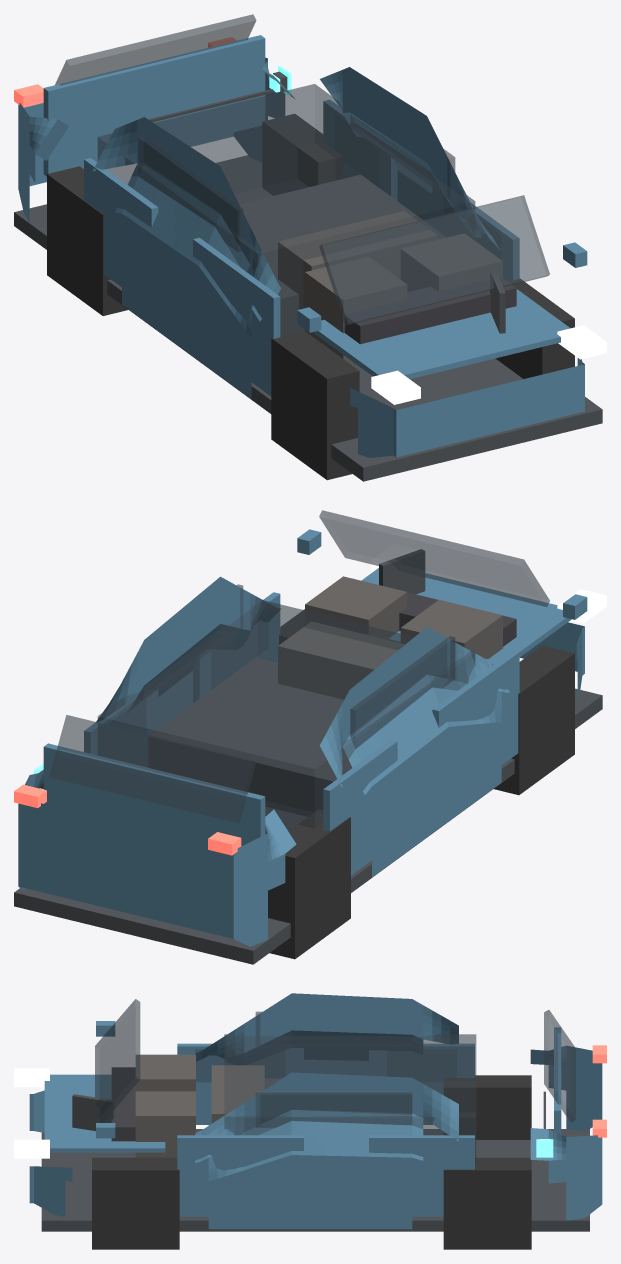
Rendered from fallback_lod.f87adc09b8.glb.
The picture shows the model from 3 angles, top to bottom: view 1: azimuth 30°, elevation 25°; view 2: azimuth 150°, elevation 25°; view 3: azimuth 270°, elevation 25°; orthographic projection. The views are drawn at different scales.
Visible parts, largest first — view 1: body_mesh, cab_mesh, windshield, liftgate_mesh, trim_mesh, tire_fr, frunk_mesh, wheel_well_mesh, tire_rr, seat_rear, dash, seat_r (+13 smaller); view 2: body_mesh, cab_mesh, wheel_well_mesh, liftgate_mesh, rear_glass, windshield, tire_rr, trim_mesh, tire_fr, seat_rear, frunk_mesh, window_fixed_r (+12 smaller); view 3: body_mesh, cab_mesh, trim_mesh, tire_fl, tire_rl, window_fixed_l, tire_rr, door_fl_mesh, frunk_mesh, door_rl_mesh, windshield, door_rr_mesh (+12 smaller).
Part boxes in pixels (x1,y1,x2,y2): body_mesh: (18,57,584,457); cab_mesh: (97,84,475,335); windshield: (319,195,549,325); liftgate_mesh: (43,35,265,176); trim_mesh: (14,155,602,481); tire_fr: (271,330,359,480); frunk_mesh: (313,289,570,379); wheel_well_mesh: (239,174,445,335); tire_rr: (47,166,128,315); seat_rear: (278,211,437,309); dash: (344,277,516,344); seat_r: (305,257,406,366); body_mesh: (18,576,584,946); cab_mesh: (97,600,475,834); wheel_well_mesh: (148,658,351,816); liftgate_mesh: (43,743,265,846); rear_glass: (49,715,256,823); windshield: (319,510,549,606); tire_rr: (268,809,350,959); trim_mesh: (14,688,602,964); tire_fr: (494,645,574,795); seat_rear: (278,621,404,699); frunk_mesh: (361,568,571,664); window_fixed_r: (350,636,455,748); body_mesh: (29,993,602,1229); cab_mesh: (224,1034,476,1163); trim_mesh: (41,1129,589,1231); tire_fl: (92,1157,179,1249); tire_rl: (443,1157,531,1249); window_fixed_l: (255,1092,412,1127); tire_rr: (443,1075,531,1139); door_fl_mesh: (177,1135,303,1216); frunk_mesh: (44,1074,165,1152); door_rl_mesh: (369,1135,474,1216); windshield: (95,999,140,1123); door_rr_mesh: (369,1044,474,1124).
Bounding box in the file's own units: 2.09 × 1.55 × 4.92.
